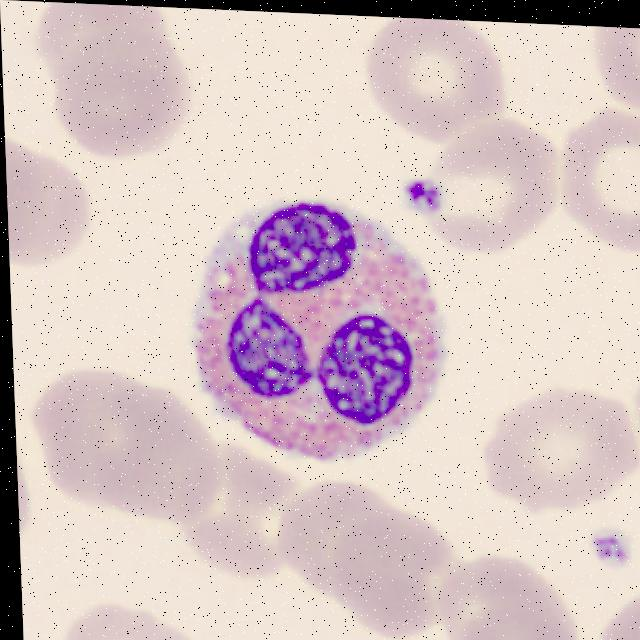eosinophil: (168, 191, 457, 459)
platelets: (577, 514, 633, 579), (398, 170, 449, 221)
rbc: (468, 368, 639, 519), (33, 356, 169, 507), (47, 21, 194, 160), (426, 111, 567, 254), (353, 16, 513, 142), (167, 447, 307, 584), (90, 380, 222, 522), (325, 511, 462, 636), (277, 476, 398, 601), (556, 100, 640, 264), (428, 552, 575, 640), (5, 148, 103, 278), (38, 2, 181, 90), (442, 584, 593, 640), (5, 124, 55, 249), (70, 592, 196, 640), (581, 26, 640, 108), (16, 413, 38, 567), (630, 351, 640, 482)
